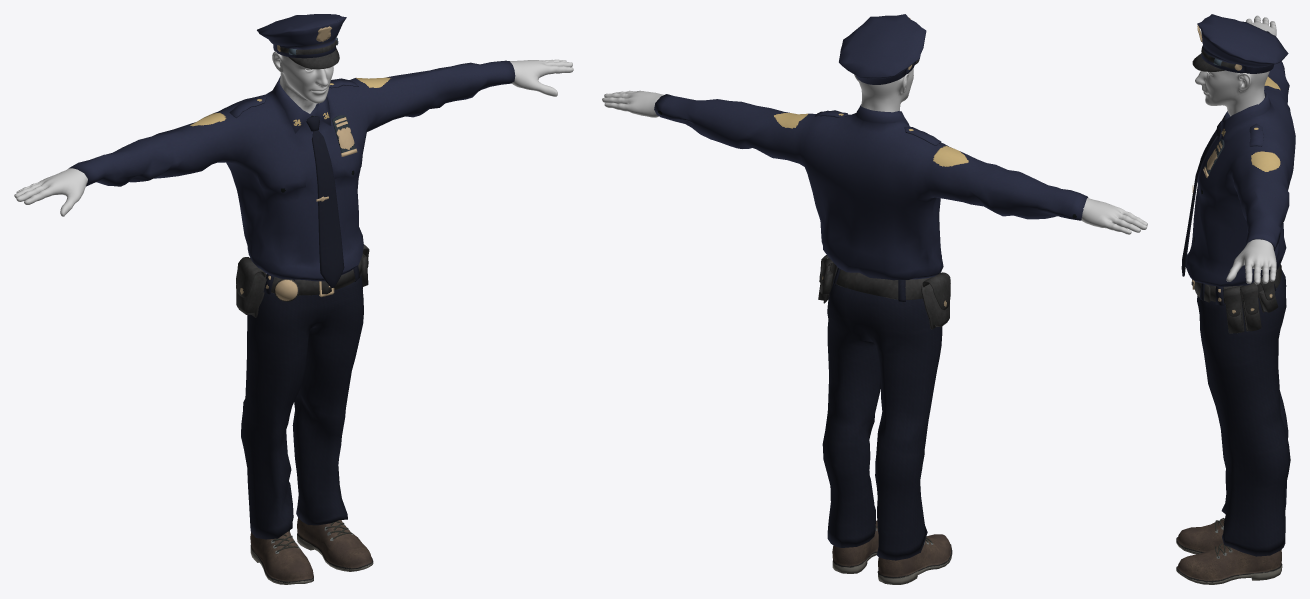
Rendered from Politie.obj.
The picture shows the model from 3 angles, left to right: view 1: azimuth 30°, elevation 25°; view 2: azimuth 150°, elevation 25°; view 3: azimuth 270°, elevation 25°; orthographic projection. The views are drawn at different scales.
Visible parts, largest first — view 1: Tops, Bottoms, Body, Shoes, Hats; view 2: Tops, Bottoms, Hats, Body, Shoes; view 3: Bottoms, Tops, Body, Shoes, Hats.
Boxes of the visible parts, left/top/right/bottom form: Tops: left=68, top=60, right=515, bottom=287; Bottoms: left=236, top=244, right=369, bottom=539; Body: left=14, top=51, right=573, bottom=274; Shoes: left=250, top=518, right=373, bottom=584; Hats: left=257, top=14, right=346, bottom=69; Tops: left=654, top=94, right=1088, bottom=280; Bottoms: left=818, top=255, right=950, bottom=560; Hats: left=839, top=14, right=926, bottom=84; Body: left=602, top=67, right=1147, bottom=234; Shoes: left=832, top=520, right=952, bottom=584; Bottoms: left=1191, top=264, right=1290, bottom=556; Tops: left=1181, top=31, right=1295, bottom=286; Body: left=1195, top=15, right=1276, bottom=284; Shoes: left=1176, top=518, right=1282, bottom=584; Hats: left=1192, top=14, right=1288, bottom=73.
Size of the model in its own units: 194 by 183 by 36.87.
